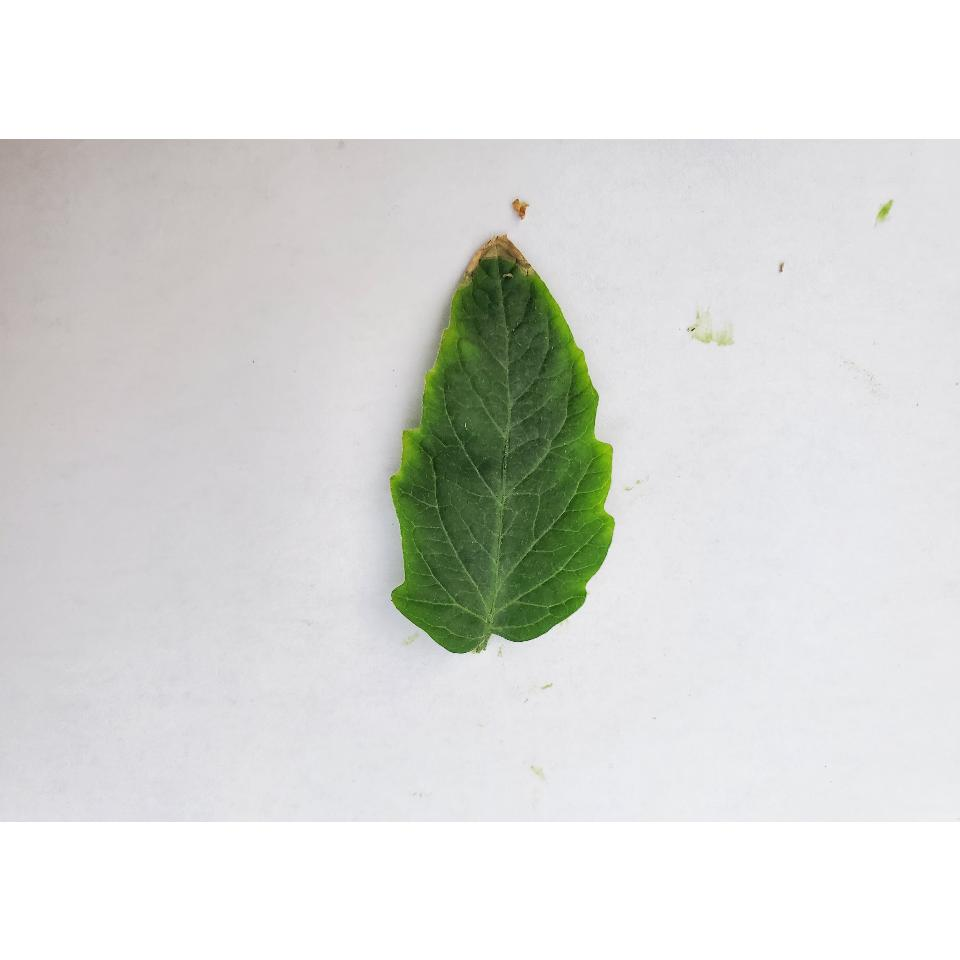tomato_leaves: (399, 267, 618, 655)
